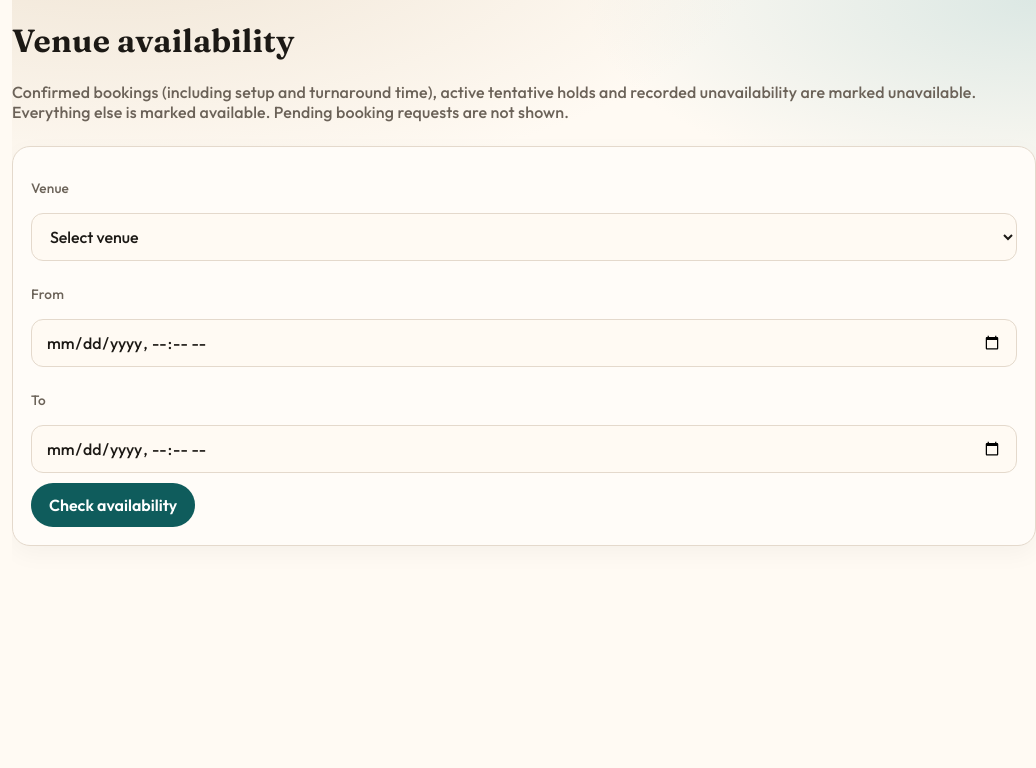
Test: SCRUM-66 VenueAvailability page › US66-F03: shows the server error, e.g. a refused or invalid range
Step 1. Select "Helix Hall" in the dropdown labelled "Venue" → (524, 237), box [31,213,1017,261]
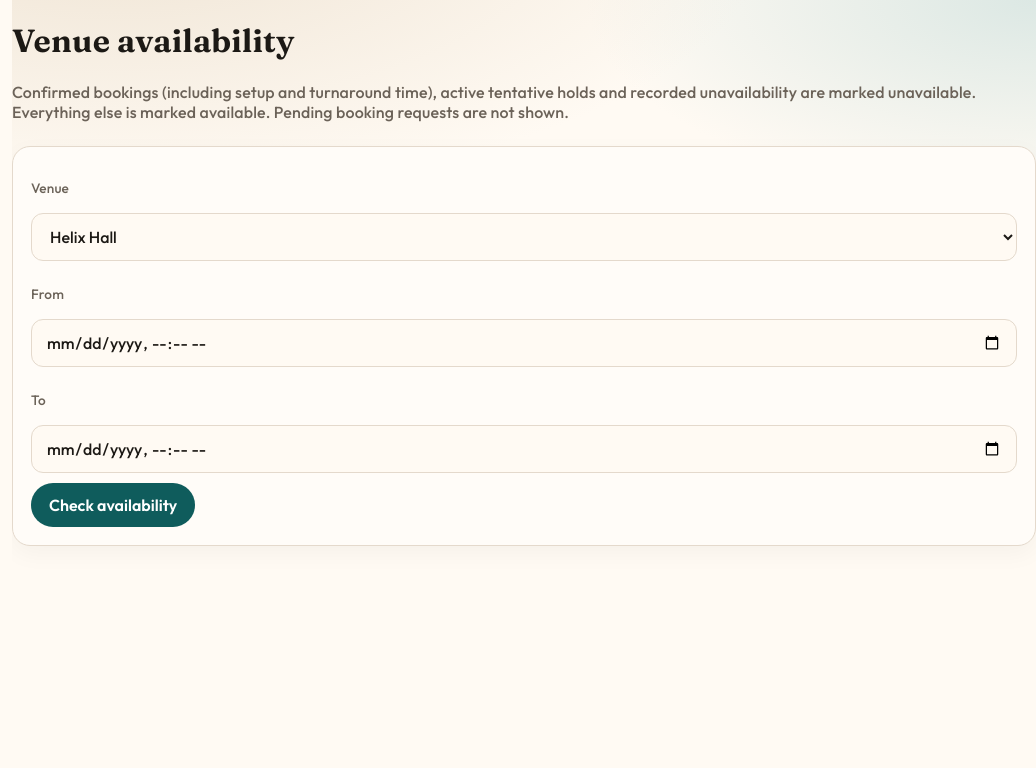
Step 2. Type "2026-10-20T08:00" into the field labelled "From" → (524, 343), box [31,319,1017,367]
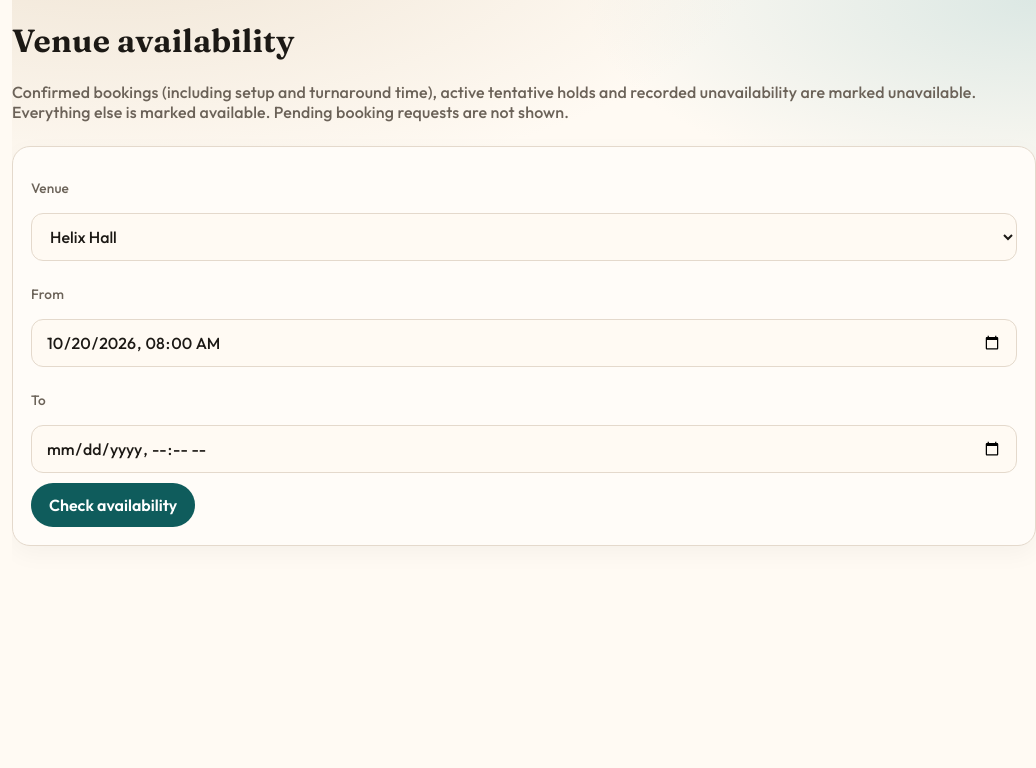
Step 3. Type "2026-10-20T14:00" into the field labelled "To" → (524, 449), box [31,425,1017,473]
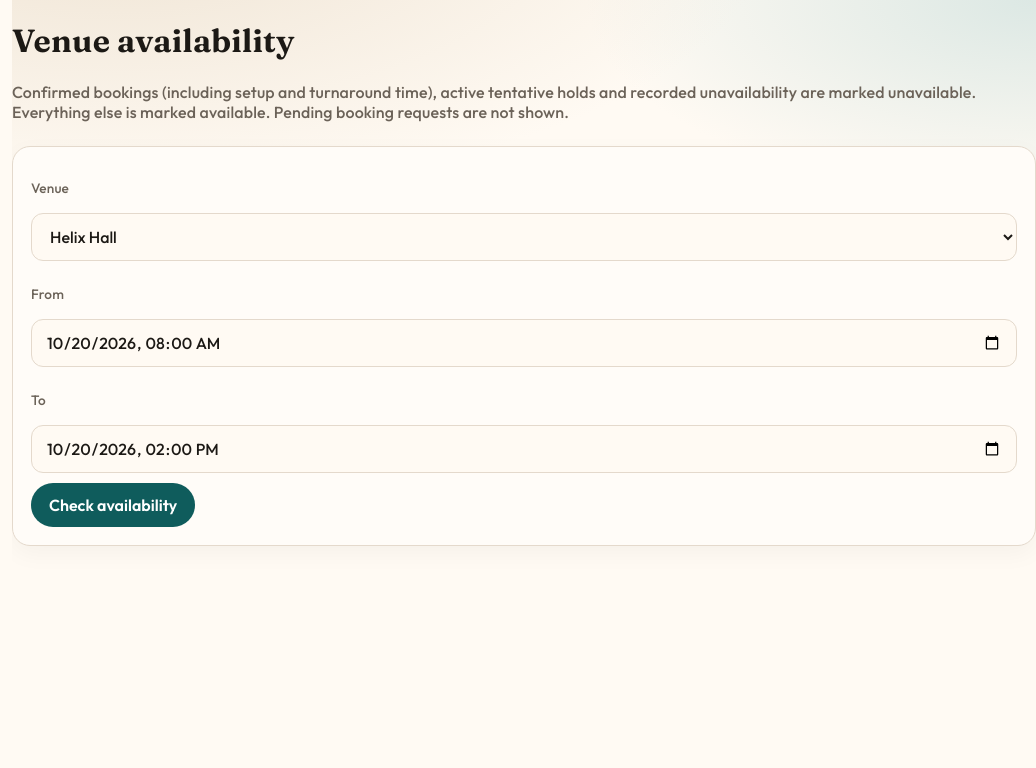
Step 4. Click the button "Check availability" → (113, 505), box [31,483,195,527]
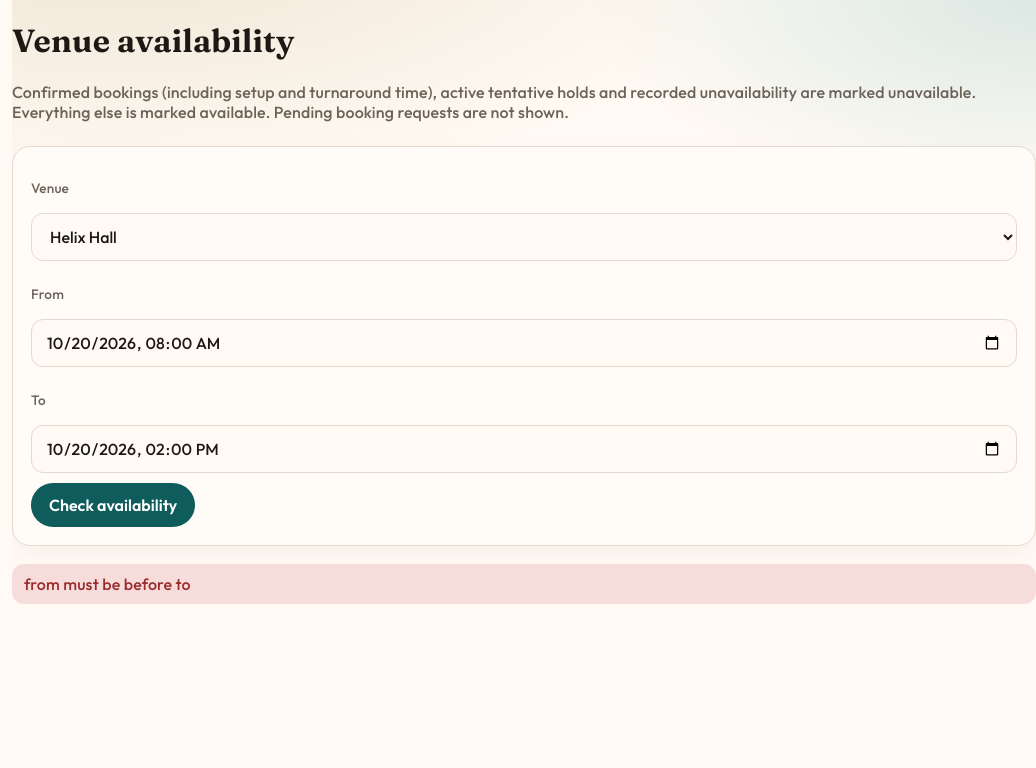
Result: the text "from must be before to" is shown at [12,564,1035,604]
